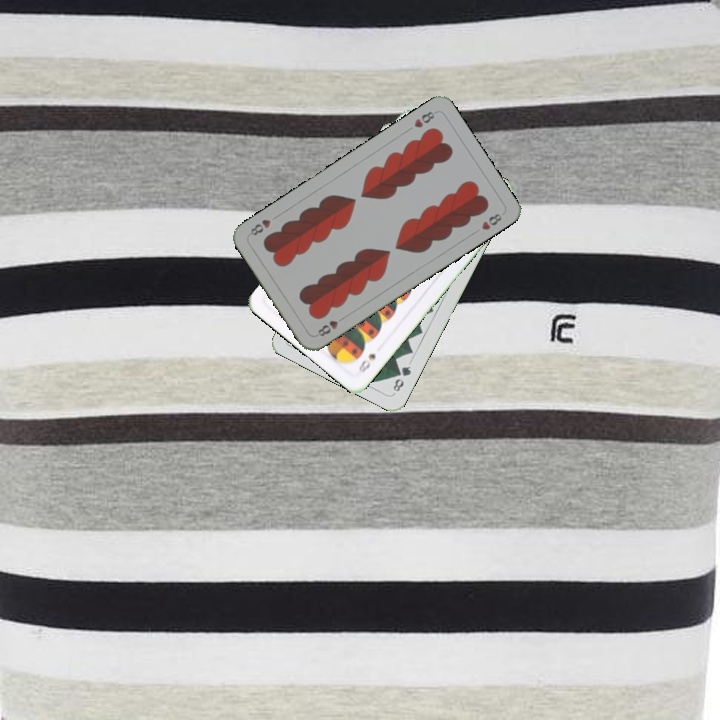G8: (389, 362, 414, 394)
H8: (410, 107, 439, 130), (314, 316, 341, 339)
S8: (353, 349, 378, 376)
